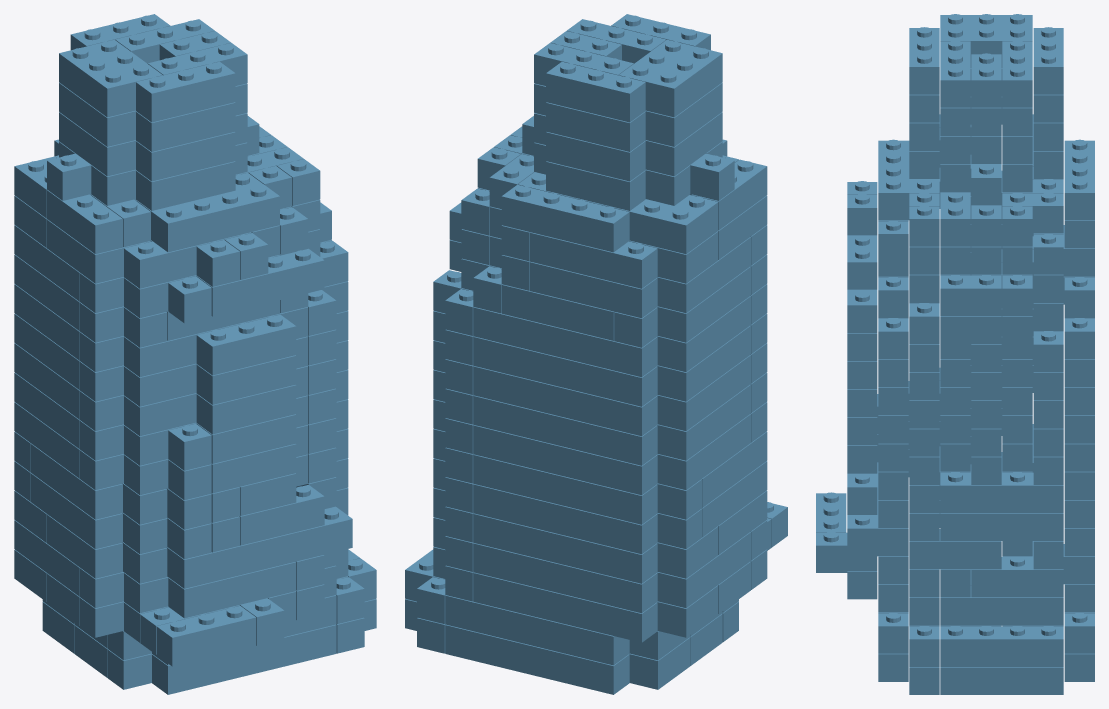
The model's file is 098_bowl_L3.glb.
3 views of the same model, side by side, from view 1: azimuth 30°, elevation 25°; view 2: azimuth 150°, elevation 25°; view 3: azimuth 270°, elevation 25° (orthographic). The views are drawn at different scales.
Bounding box in the file's own units: 9.98 × 20.13 × 8.98.
